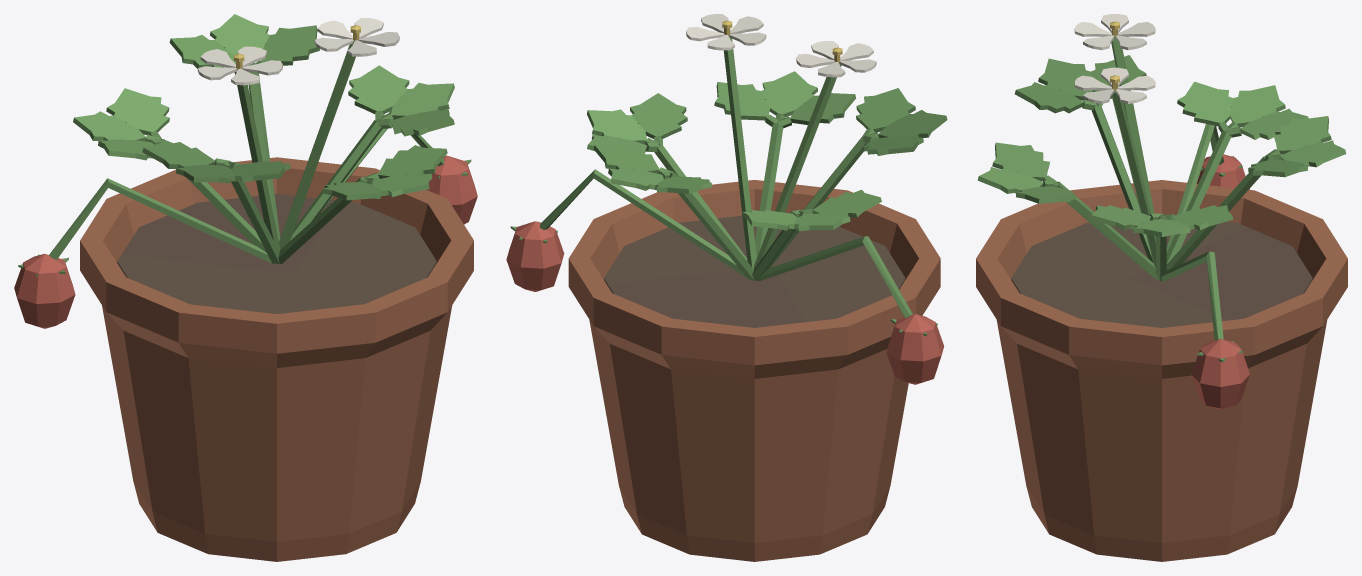
Rendered from strawberry.glb.
3 renders of one model, left to right at view 1: azimuth 30°, elevation 25°; view 2: azimuth 150°, elevation 25°; view 3: azimuth 270°, elevation 25°, orthographic. The views are drawn at different scales.
Visible parts, largest first — view 1: strawberry/review-terra-vessel, strawberry/review-rooted-soil, strawberry/strawberry-fruit-037, strawberry/stem-036, strawberry/petiole-058, strawberry/strawberry-fruit-044, strawberry/leaf-007, strawberry/leaf-017, strawberry/leaf-010, strawberry/petiole-050, strawberry/leaf-005, strawberry/leaf-035 (+15 smaller); view 2: strawberry/review-terra-vessel, strawberry/review-rooted-soil, strawberry/strawberry-fruit-037, strawberry/strawberry-fruit-044, strawberry/stem-043, strawberry/petiole-058, strawberry/petiole-050, strawberry/stem-036, strawberry/leaf-003, strawberry/leaf-028, strawberry/leaf-033, strawberry/leaf-005 (+15 smaller); view 3: strawberry/review-terra-vessel, strawberry/review-rooted-soil, strawberry/strawberry-fruit-044, strawberry/leaf-021, strawberry/petiole-058, strawberry/leaf-019, strawberry/leaf-014, strawberry/leaf-031, strawberry/petiole-022, strawberry/stem-043, strawberry/petiole-015, strawberry/leaf-028 (+15 smaller).
Boxes of the visible parts, x1,y1,x2,y2 form: strawberry/review-terra-vessel: (80, 157, 473, 561); strawberry/review-rooted-soil: (117, 193, 436, 313); strawberry/strawberry-fruit-037: (14, 253, 75, 328); strawberry/stem-036: (49, 178, 271, 263); strawberry/petiole-058: (279, 41, 355, 249); strawberry/strawberry-fruit-044: (426, 155, 477, 224); strawberry/leaf-007: (348, 65, 409, 113); strawberry/leaf-017: (106, 88, 169, 135); strawberry/leaf-010: (262, 25, 319, 65); strawberry/petiole-050: (234, 71, 280, 251); strawberry/leaf-005: (391, 83, 454, 119); strawberry/leaf-035: (378, 145, 447, 178); strawberry/review-terra-vessel: (568, 180, 940, 561); strawberry/review-rooted-soil: (604, 215, 905, 327); strawberry/strawberry-fruit-037: (886, 314, 944, 384); strawberry/strawberry-fruit-044: (506, 221, 564, 291); strawberry/stem-043: (539, 169, 747, 278); strawberry/petiole-058: (723, 35, 756, 268); strawberry/petiole-050: (754, 62, 841, 268); strawberry/stem-036: (757, 236, 912, 317); strawberry/leaf-003: (630, 93, 687, 138); strawberry/leaf-028: (856, 88, 915, 132); strawberry/leaf-033: (761, 71, 817, 117); strawberry/leaf-005: (587, 109, 646, 144); strawberry/review-terra-vessel: (976, 180, 1347, 561); strawberry/review-rooted-soil: (1011, 221, 1312, 327); strawberry/strawberry-fruit-044: (1191, 339, 1249, 409); strawberry/leaf-021: (1177, 81, 1232, 126); strawberry/petiole-058: (1111, 91, 1155, 268); strawberry/leaf-019: (1230, 85, 1285, 127); strawberry/leaf-014: (1274, 116, 1331, 154); strawberry/leaf-031: (992, 142, 1049, 181); strawberry/petiole-022: (1091, 105, 1153, 262); strawberry/stem-043: (1161, 251, 1223, 340); strawberry/petiole-015: (1166, 131, 1231, 263); strawberry/leaf-028: (1014, 82, 1083, 113).
Size of the model in its own units: 0.255 by 0.2569 by 0.19.
6 materials, 6 textured.
